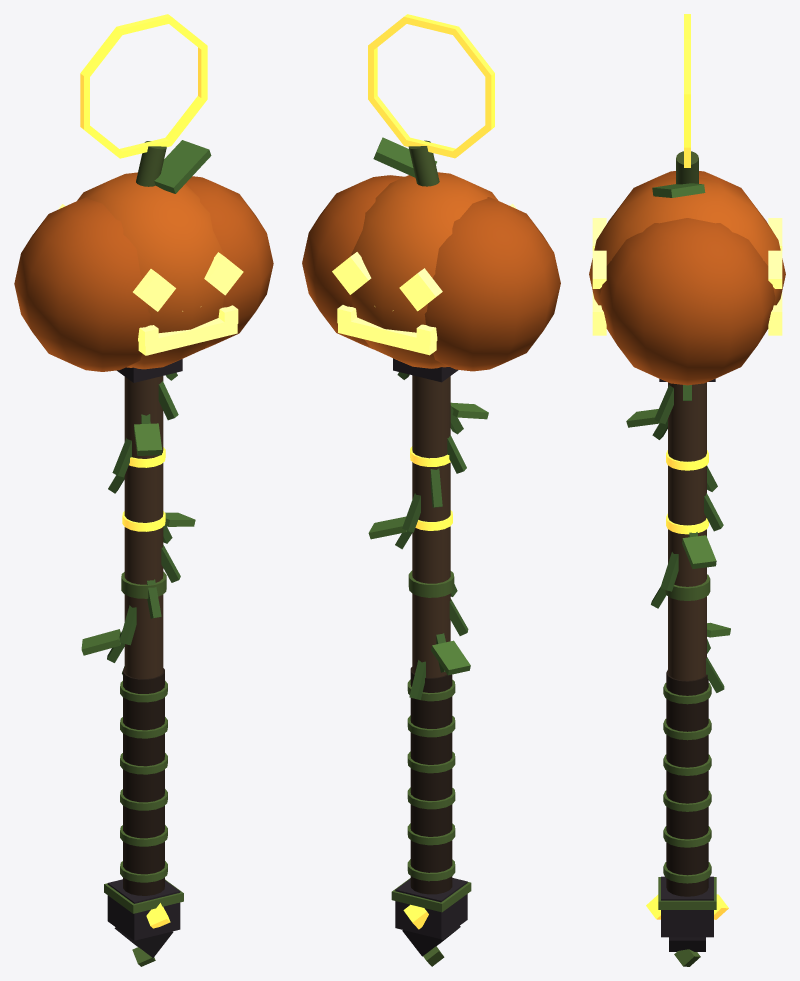
3 views of the same model, side by side, from view 1: azimuth 30°, elevation 25°; view 2: azimuth 150°, elevation 25°; view 3: azimuth 270°, elevation 25° (orthographic).
Parts seen in each view (by area): view 1: pumpkin-king-maul; view 2: pumpkin-king-maul; view 3: pumpkin-king-maul.
Part boxes in pixels (box(x1,y1,x2,y2)): pumpkin-king-maul: box(14, 14, 273, 966); pumpkin-king-maul: box(302, 14, 560, 966); pumpkin-king-maul: box(589, 14, 785, 966).
Bounding box in the file's own units: 0.4166 × 1.6 × 0.303.
